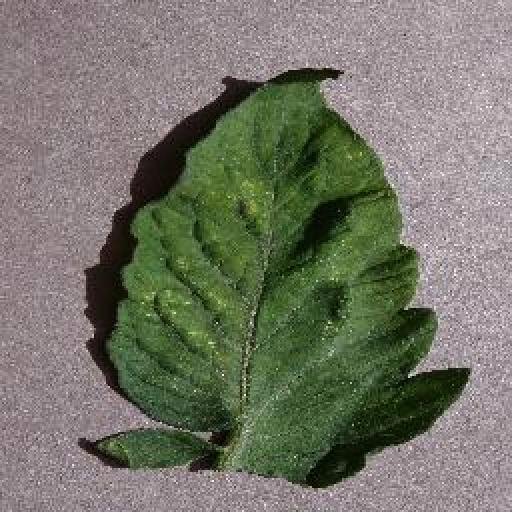disease_tomato: (90, 64, 470, 494)
